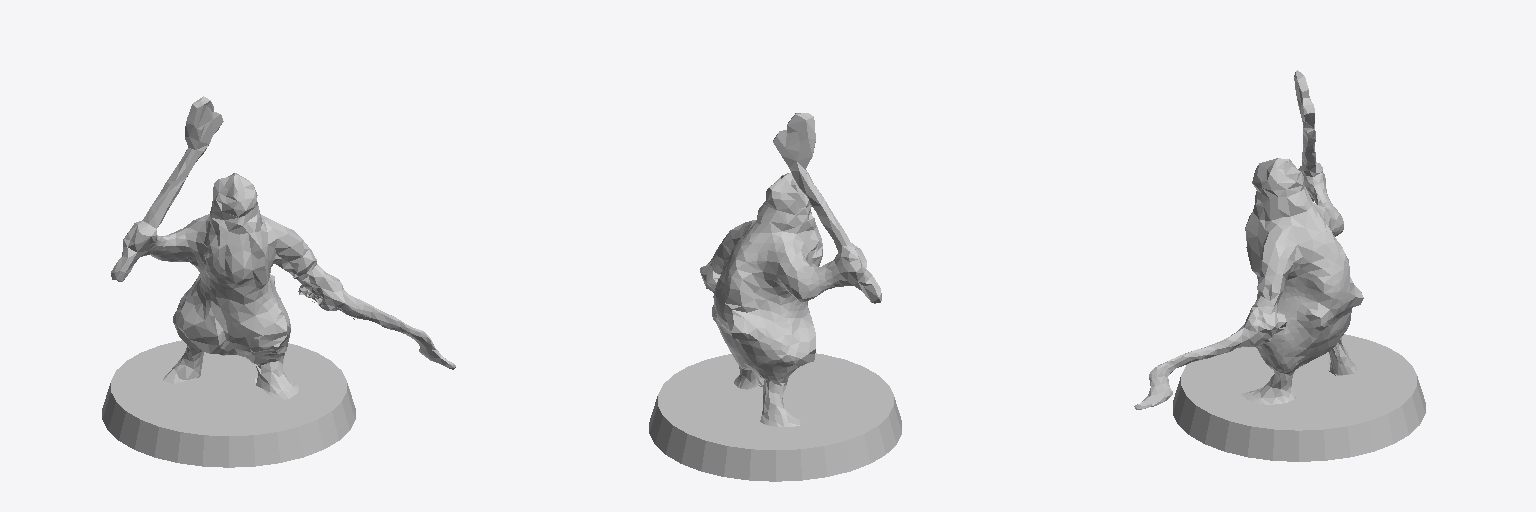
The model's file is Gimli2.0.obj.
3 views of the same model, side by side, from view 1: azimuth 30°, elevation 25°; view 2: azimuth 150°, elevation 25°; view 3: azimuth 270°, elevation 25° (orthographic).
Visible parts, largest first — view 1: Laketown_Militia_Bowman028.002, Laketown_Militia_Bowman028; view 2: Laketown_Militia_Bowman028, Laketown_Militia_Bowman028.002; view 3: Laketown_Militia_Bowman028.002, Laketown_Militia_Bowman028.
Boxes of the visible parts, <box> form: Laketown_Militia_Bowman028.002: <box>111,96,455,399</box>; Laketown_Militia_Bowman028: <box>102,340,355,467</box>; Laketown_Militia_Bowman028: <box>649,353,901,481</box>; Laketown_Militia_Bowman028.002: <box>700,113,881,426</box>; Laketown_Militia_Bowman028.002: <box>1134,70,1363,409</box>; Laketown_Militia_Bowman028: <box>1173,334,1425,461</box>.
Bounding box in the file's own units: 1.15 × 1.37 × 1.13.